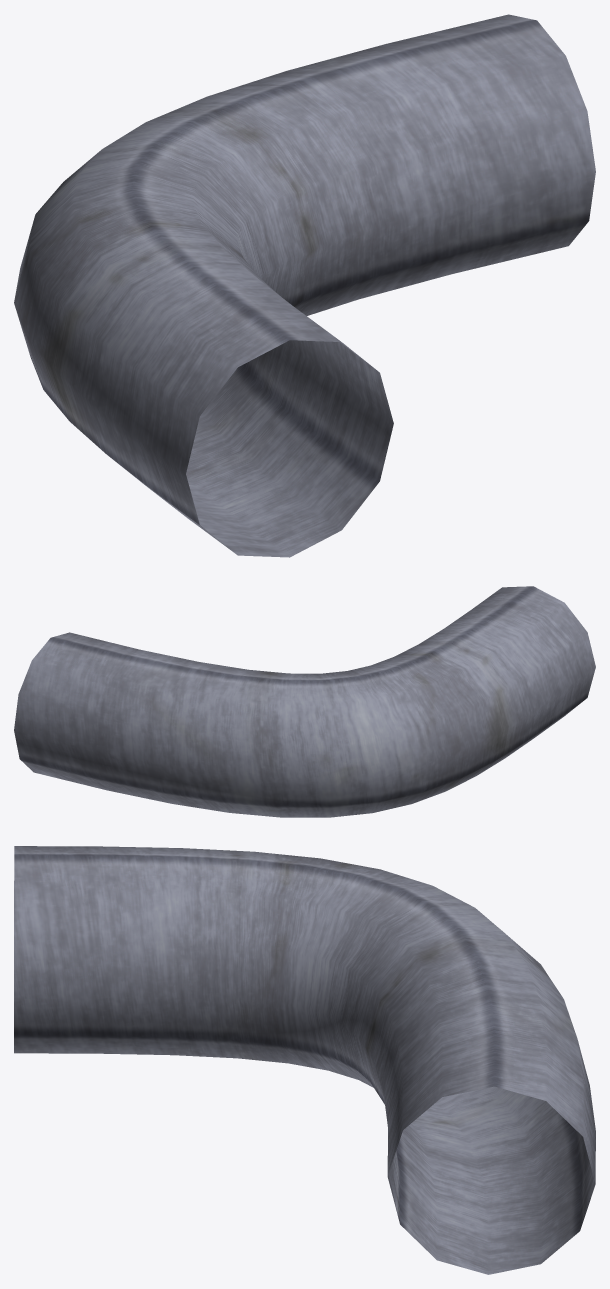
Rendered from pipecurve.glb.
The picture shows the model from 3 angles, top to bottom: view 1: azimuth 30°, elevation 25°; view 2: azimuth 150°, elevation 25°; view 3: azimuth 270°, elevation 25°; orthographic projection. The views are drawn at different scales.
Parts seen in each view (by area): view 1: BezierCurve.001; view 2: BezierCurve.001; view 3: BezierCurve.001.
Part boxes in pixels (x1=…): BezierCurve.001: x1=14, y1=14, x2=595, y2=557; BezierCurve.001: x1=14, y1=586, x2=595, y2=817; BezierCurve.001: x1=14, y1=846, x2=595, y2=1274.
Bounding box in the file's own units: 1.21 × 0.4194 × 1.12.
1 material, 1 textured.
